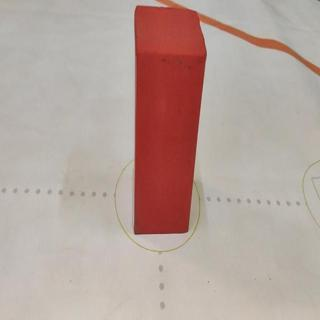redbox: (131, 4, 207, 233)
